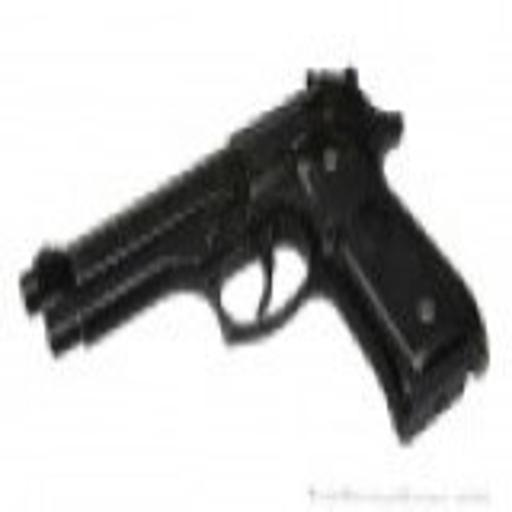Handgun: (15, 63, 491, 455)
